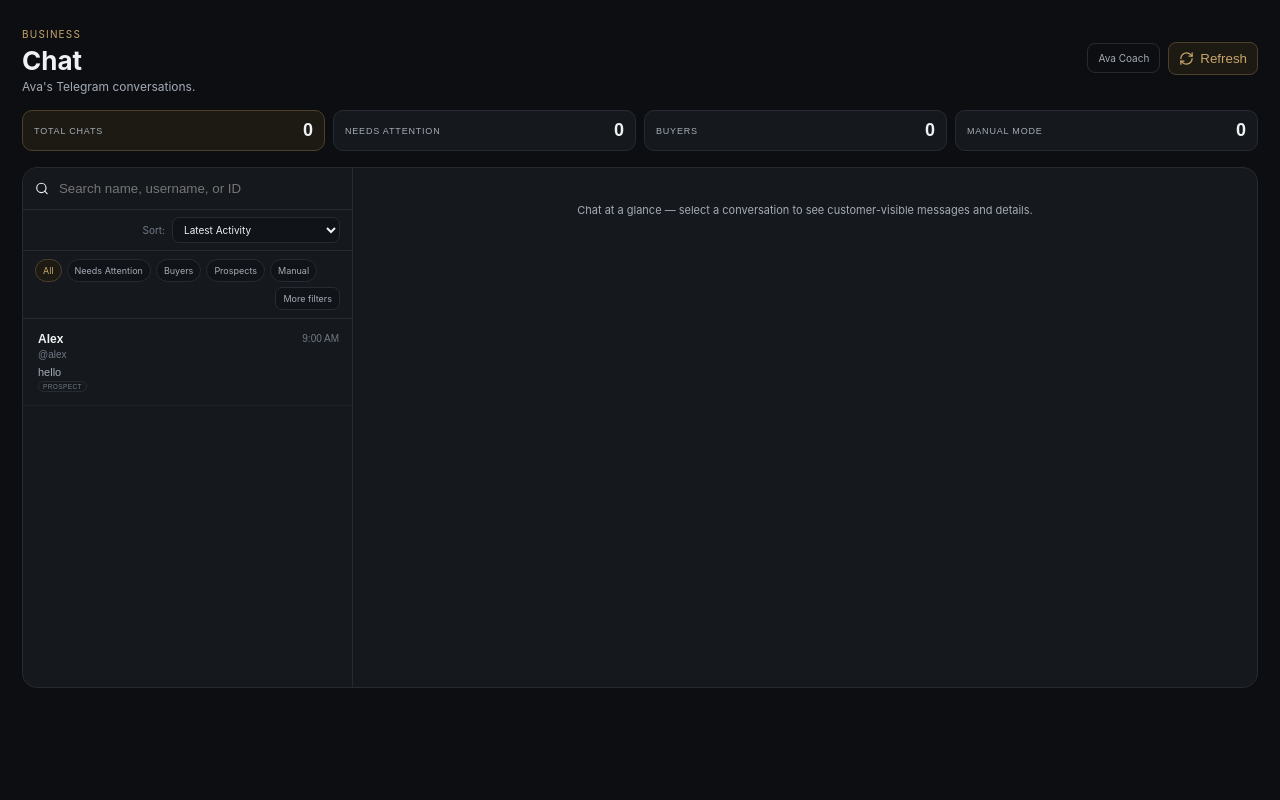
Test: Relationships operator inbox › loads older transcript pages
Click the button "Alex @alex hello PROSPECT 9:00 AM": (62, 387) [23,319,352,406]
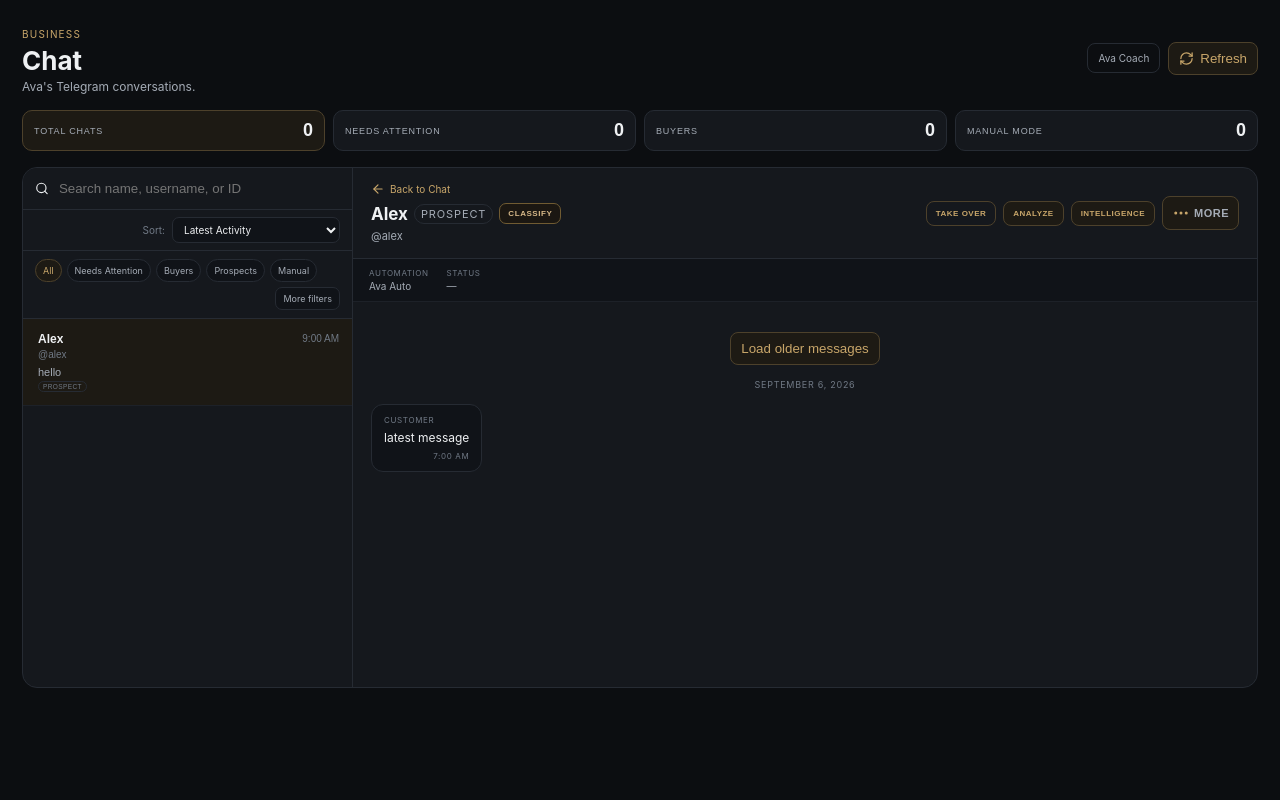
Click the button "Load older messages": (805, 348) [730,332,880,365]
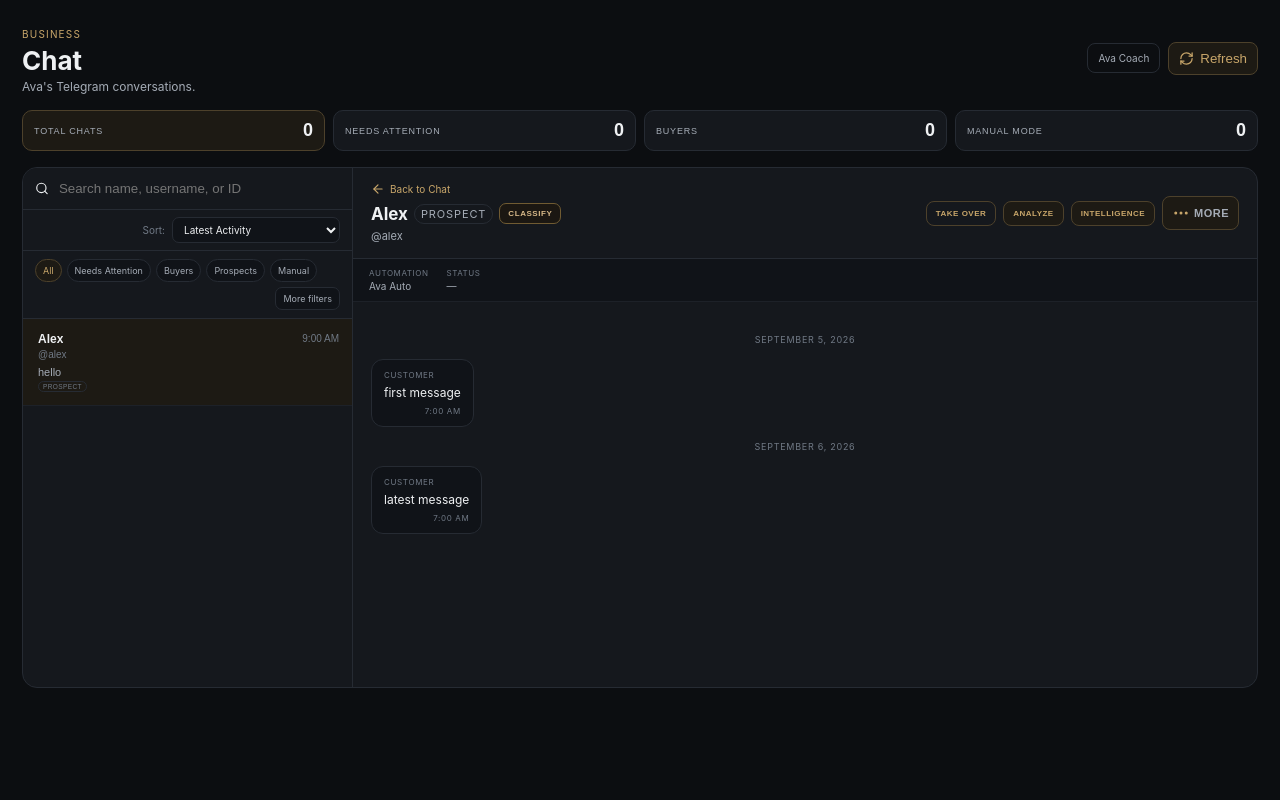
Expected: the text "first message" is shown, [384,384,461,402]
